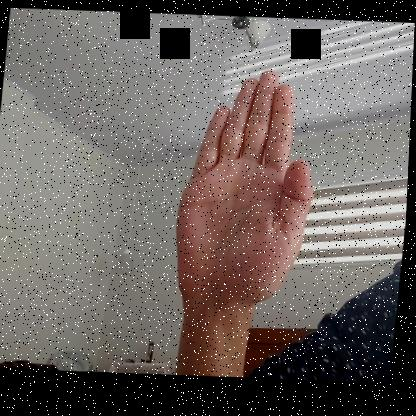B: (171, 66, 328, 311)
